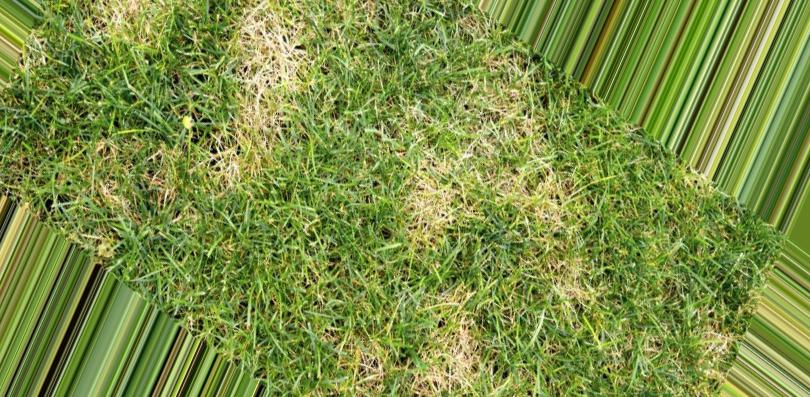patch: (476, 90, 545, 193), (233, 17, 308, 97), (409, 127, 464, 226), (428, 322, 476, 379), (108, 2, 155, 37), (338, 337, 376, 370)
